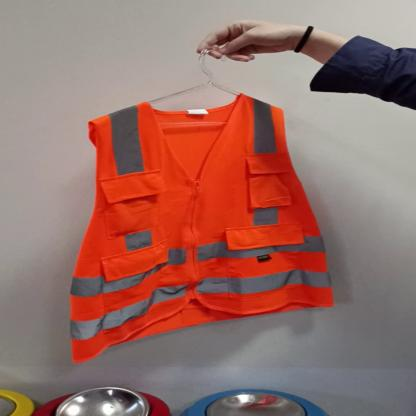colete: (69, 90, 338, 361)
